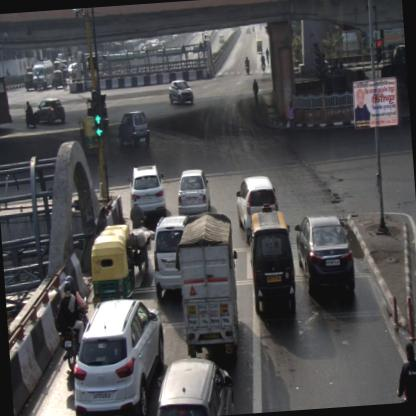bus: (31, 57, 54, 92)
car: (65, 295, 169, 415), (248, 203, 298, 321), (294, 212, 356, 300), (150, 354, 237, 415), (150, 214, 196, 302), (234, 173, 279, 242), (128, 162, 168, 218), (176, 170, 212, 216), (118, 110, 150, 150), (31, 98, 66, 127), (168, 78, 195, 106)
motorcycle: (58, 273, 92, 368), (129, 198, 152, 278), (25, 98, 36, 127), (245, 56, 251, 74)
truck: (176, 210, 244, 360)
